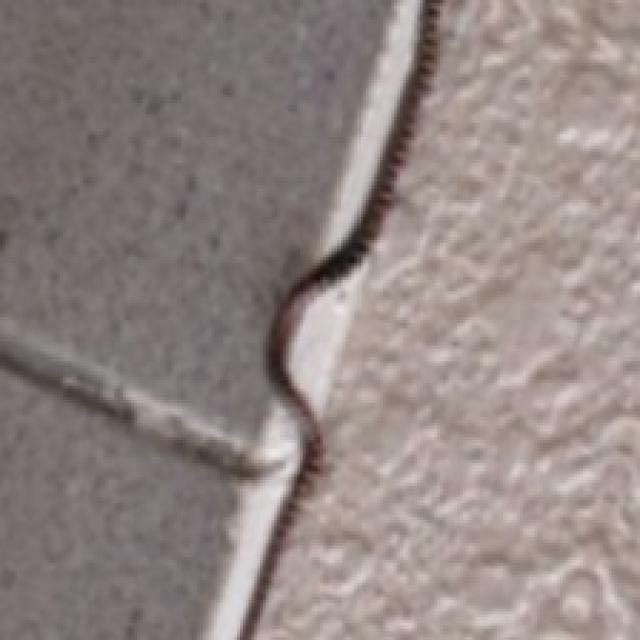paradise tree snake: (0, 0, 420, 637), (254, 0, 637, 637), (0, 371, 149, 637)
